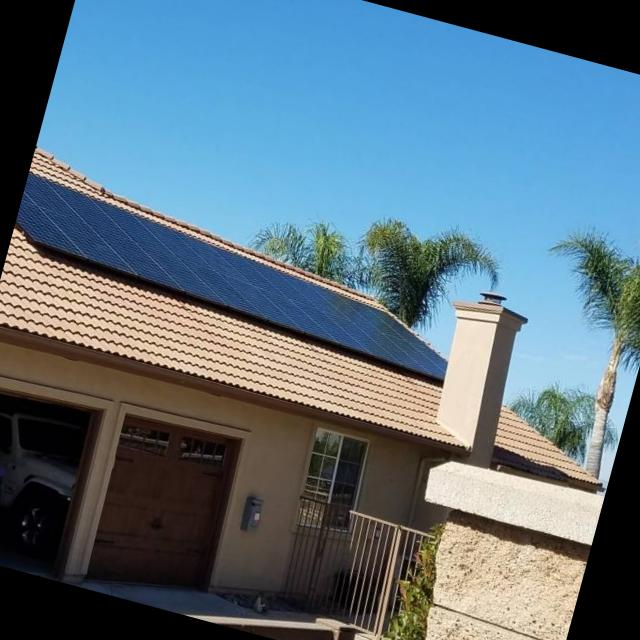no faulty: (18, 170, 449, 377)
